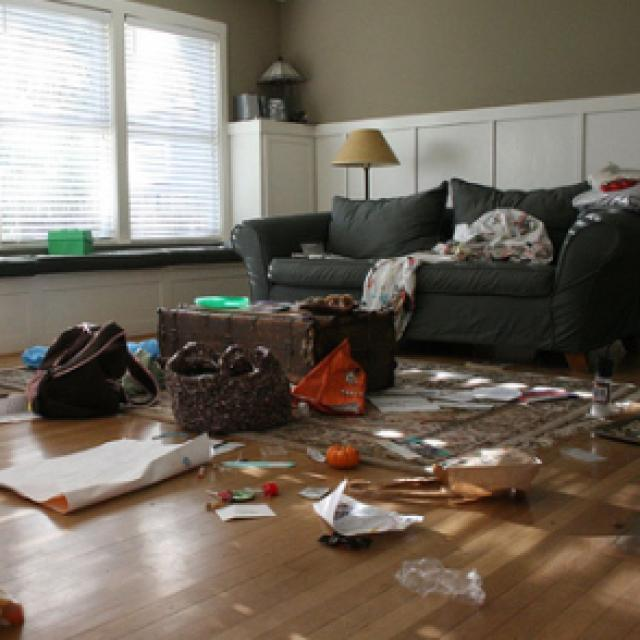mess: (17, 416, 233, 506), (172, 335, 308, 435), (387, 210, 549, 280), (420, 460, 559, 540), (34, 315, 152, 407), (307, 469, 393, 585)
